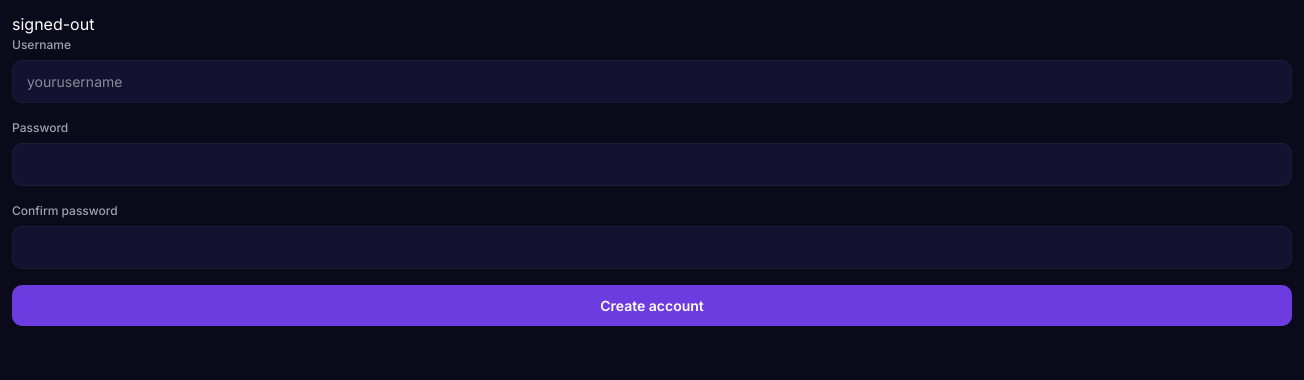
Test case: RegisterForm › error path: password/confirm mismatch blocks submission before any crypto or network work starts
The image size is (1304, 380).
Type "alice_1" into the field labelled "Username" at (652, 82), box [12, 60, 1292, 103]
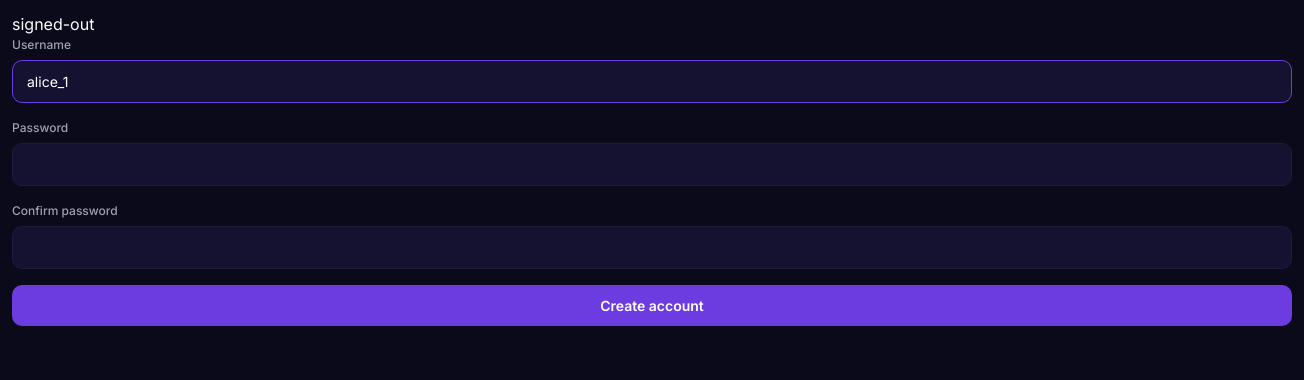
Type "correct-horse-1" into the password field labelled "Password" at (652, 164), box [12, 143, 1292, 186]
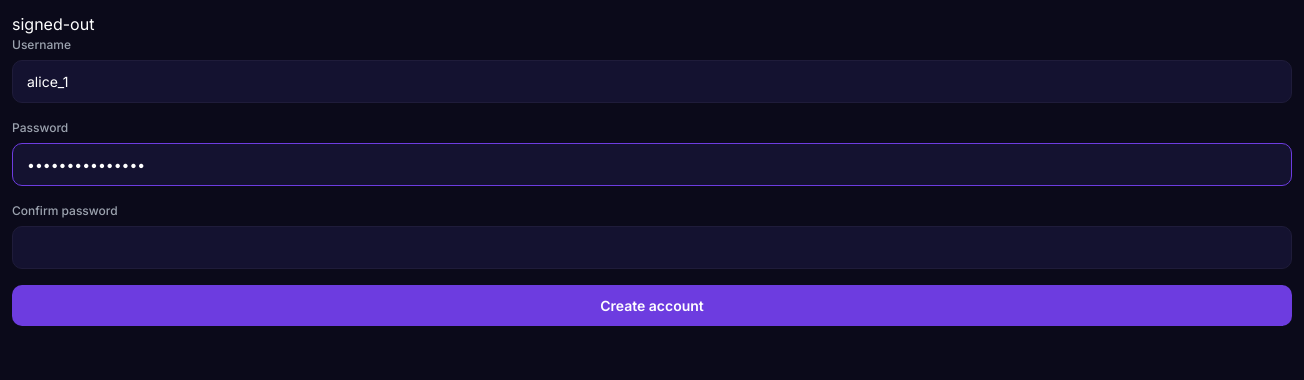
Type "a-totally-different-password-1" into the password field labelled "Confirm password" at (652, 248), box [12, 226, 1292, 269]
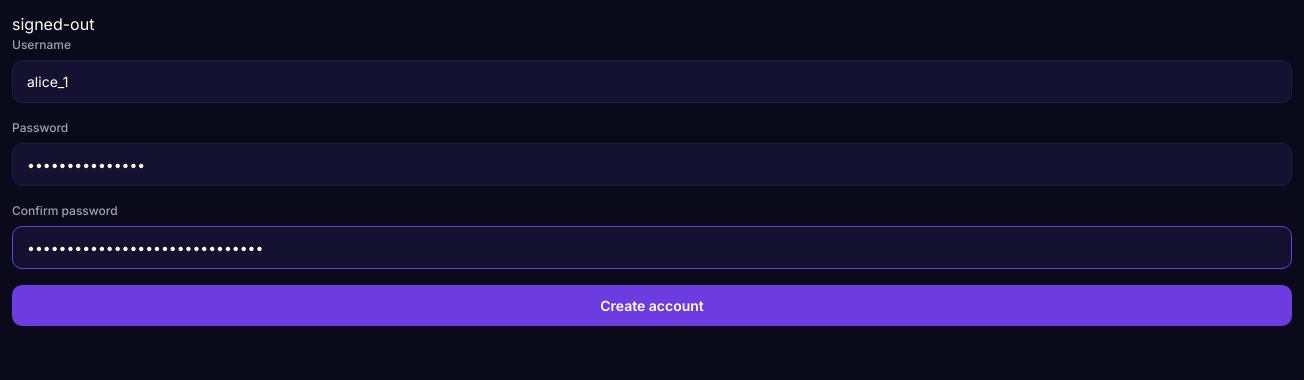
Click the button "Create account" at (652, 306), box [12, 285, 1292, 326]
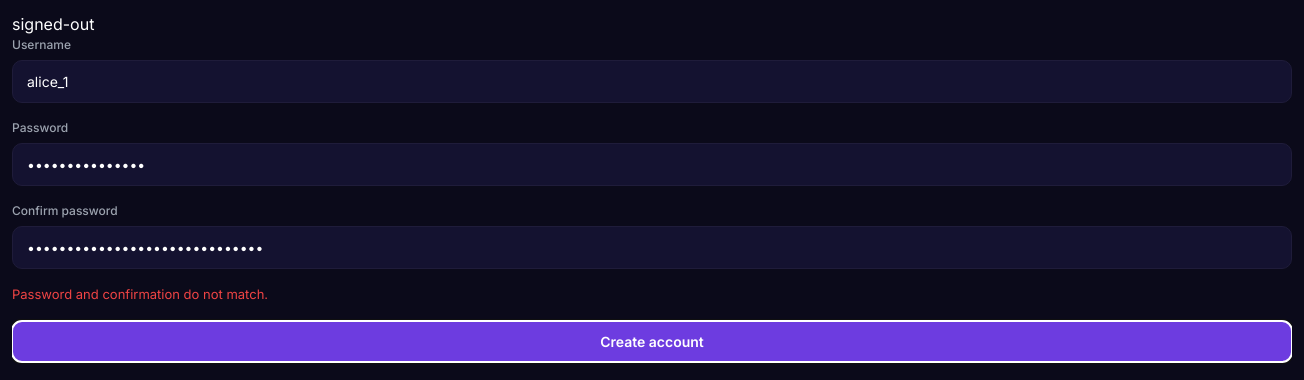
Expected: the button "Create account" is enabled, [12, 320, 1292, 362]
Result: the message shows "do not match" at [12, 286, 268, 302]
